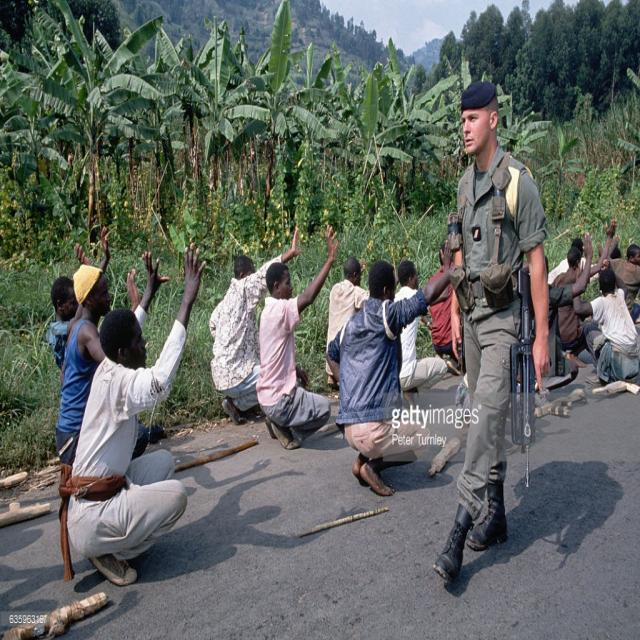body: (428, 78, 554, 589), (58, 239, 208, 590), (322, 237, 454, 498), (255, 223, 343, 453), (55, 261, 152, 469), (208, 222, 303, 428), (517, 233, 594, 411), (548, 218, 618, 354), (48, 226, 112, 373), (572, 256, 640, 387), (392, 257, 449, 412), (324, 256, 370, 392), (419, 242, 463, 375), (596, 240, 640, 325), (546, 237, 612, 286), (600, 231, 626, 259)
